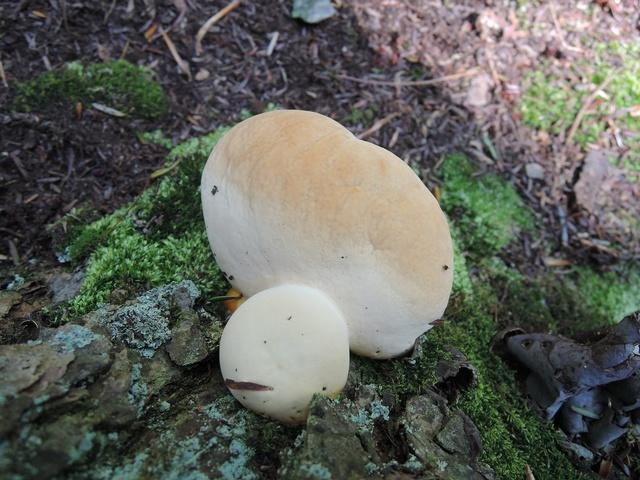Non-edible Mushroom: (198, 107, 455, 425)
